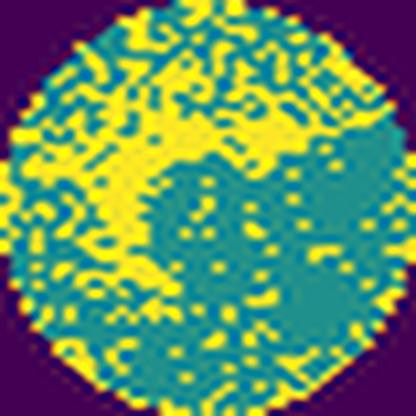Donut: (86, 96, 317, 310)
